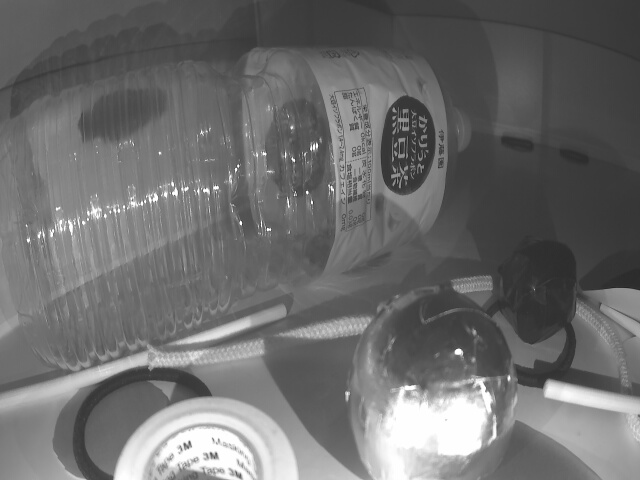Dead: (503, 243, 576, 335)
Live: (343, 287, 522, 480)
